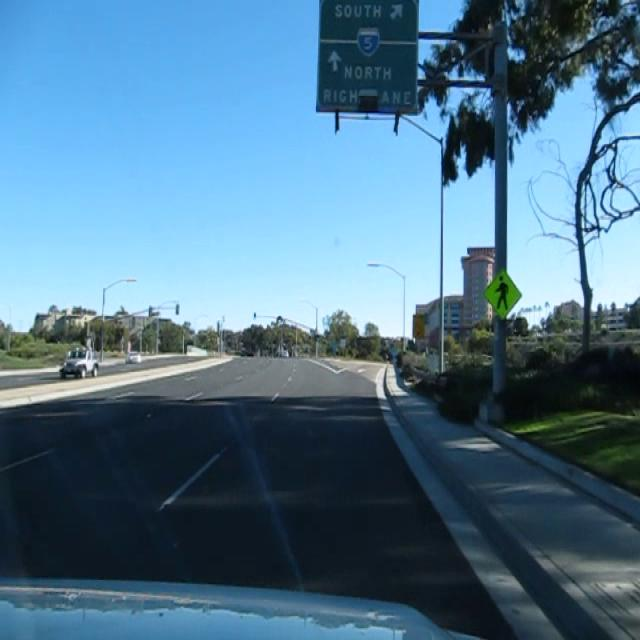pedestrianCrossing: (481, 266, 522, 322)
